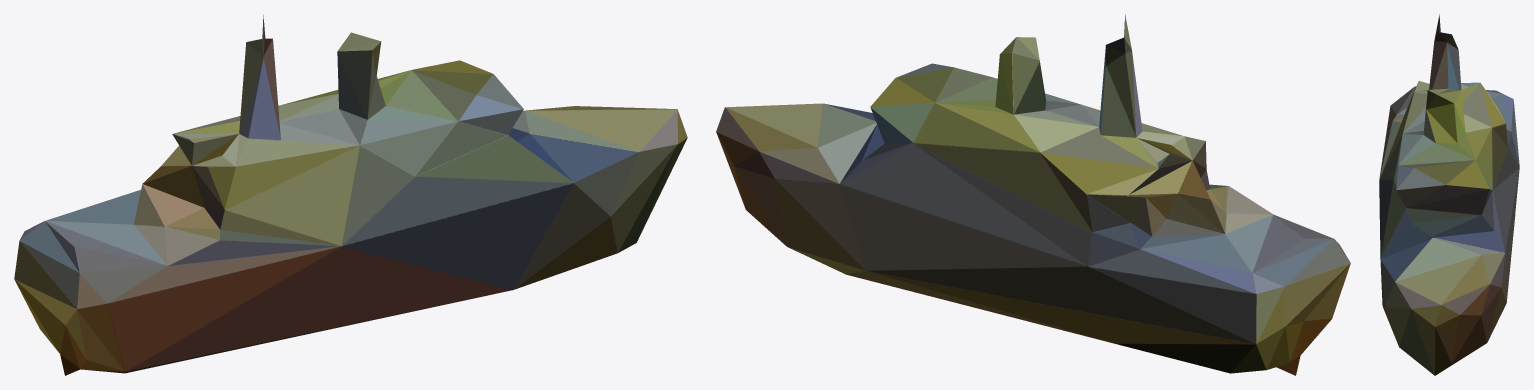
The model's file is steamboat.fbx.
3 views of the same model, side by side, from view 1: azimuth 30°, elevation 25°; view 2: azimuth 150°, elevation 25°; view 3: azimuth 270°, elevation 25° (orthographic). The views are drawn at different scales.
Visible parts, largest first — view 1: Mesh_0; view 2: Mesh_0; view 3: Mesh_0.
Part boxes in pixels (box(x1,y1,x2,y2)): Mesh_0: box(14, 15, 687, 375); Mesh_0: box(716, 14, 1350, 375); Mesh_0: box(1379, 14, 1519, 375).
Bounding box in the file's own units: 119 × 58.15 × 31.47.
1 material, 1 textured.
